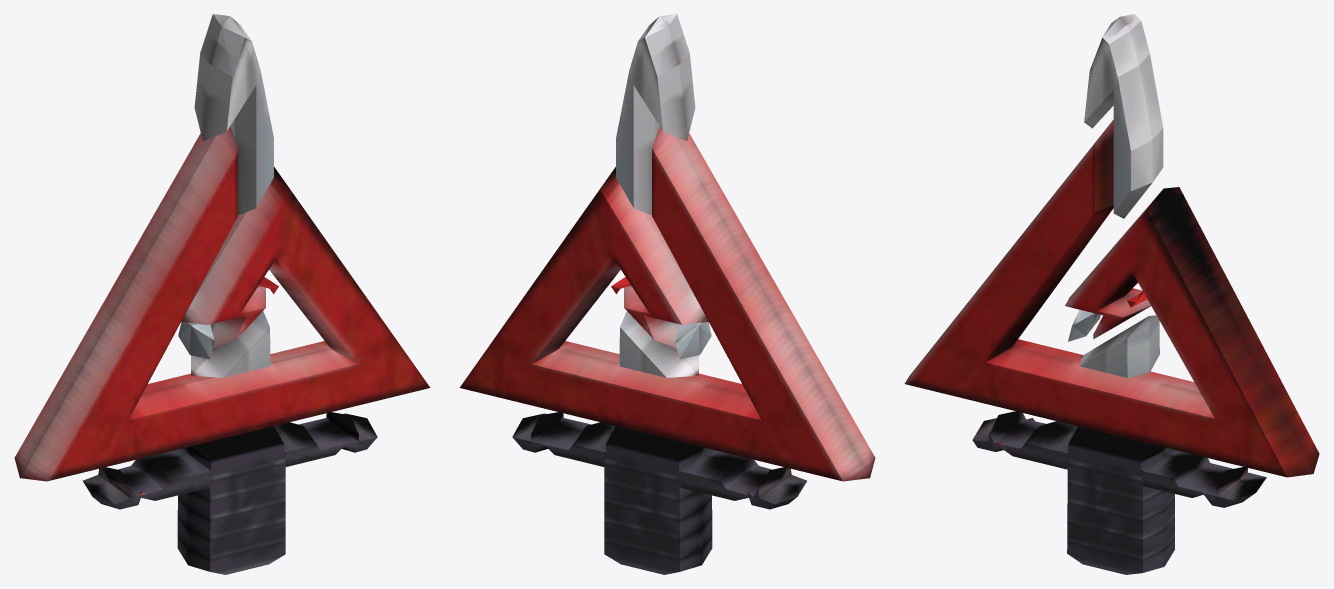
Rendered from MCIcon_BHD_Icon.icn.obj.
3 views of the same model, side by side, from view 1: azimuth 30°, elevation 25°; view 2: azimuth 150°, elevation 25°; view 3: azimuth 330°, elevation 25° (orthographic).
Bounding box in the file's own units: 3.86 × 5 × 0.5347.
Materials: 1 (1 with a texture image).
